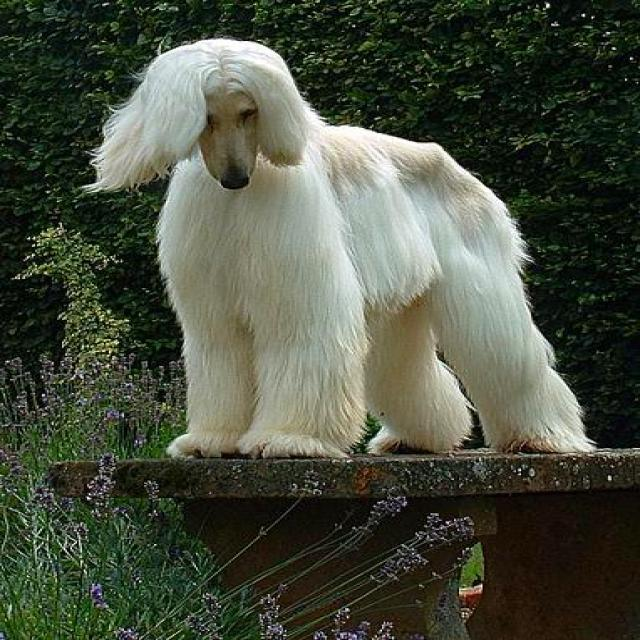afghan_hound: (87, 34, 595, 456)
